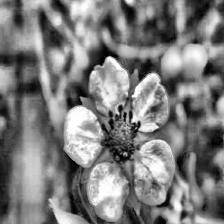Blossom Blight: (98, 102, 144, 171)
